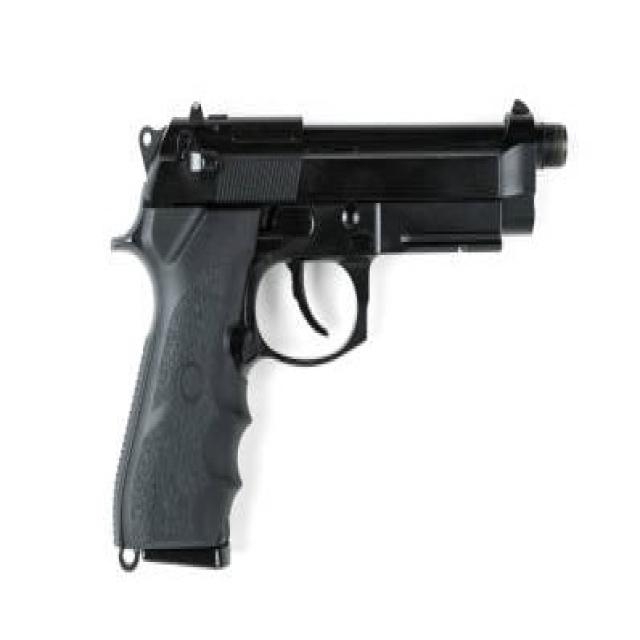pistol: (107, 94, 576, 580)
